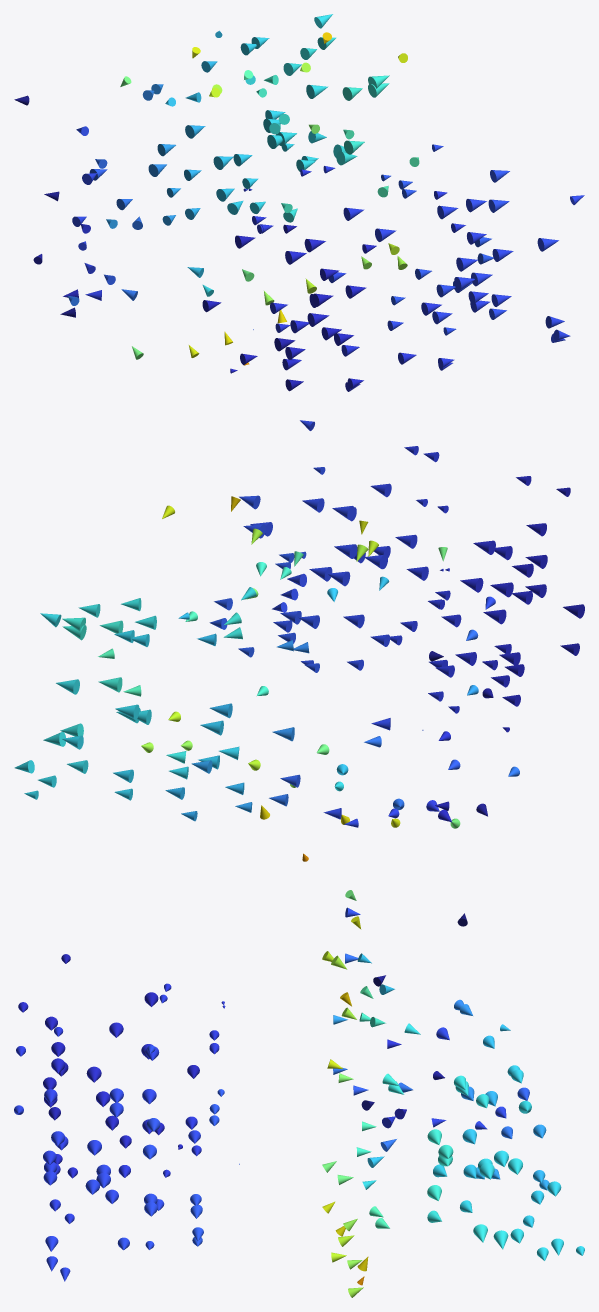
File: LineasCorrienteN2-H2O_mh2-8.20_V-0.8.glb
The picture shows the model from 3 angles, top to bottom: view 1: azimuth 30°, elevation 25°; view 2: azimuth 150°, elevation 25°; view 3: azimuth 270°, elevation 25°; orthographic projection. The views are drawn at different scales.
Bounding box in the file's own units: 0.000965 × 0.000814 × 0.00123.
2 materials, 2 textured.
